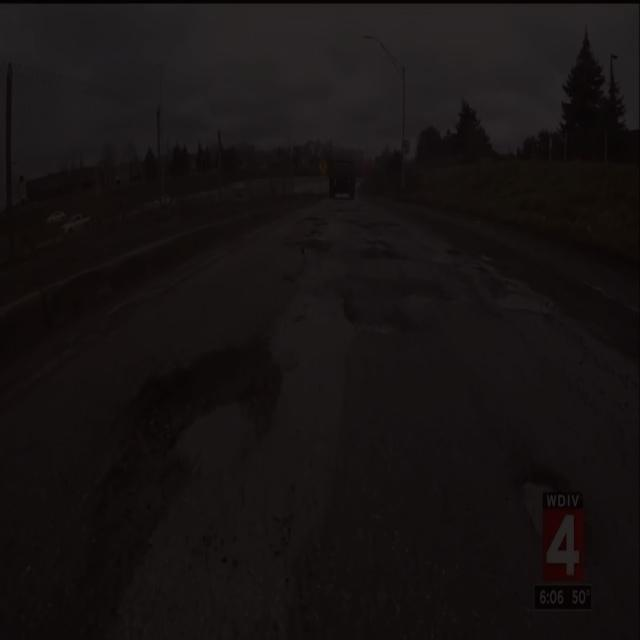Pothole: (61, 322, 294, 588), (322, 259, 462, 348), (449, 240, 559, 316), (510, 460, 558, 535), (354, 241, 397, 266), (293, 234, 329, 261)
